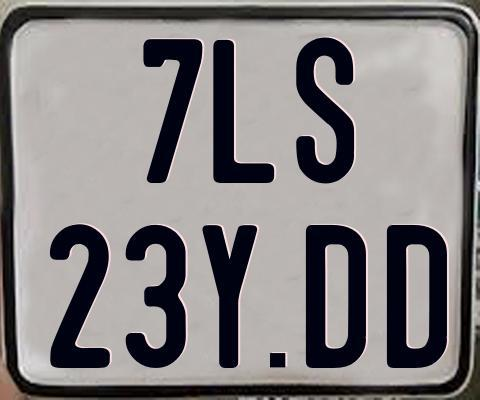2: (47, 224, 107, 374)
3: (123, 223, 189, 367)
7: (142, 37, 205, 181)
D: (303, 222, 368, 367), (384, 223, 448, 366)
L: (213, 39, 280, 188)
S: (295, 34, 355, 186)
Y: (200, 225, 255, 369)
